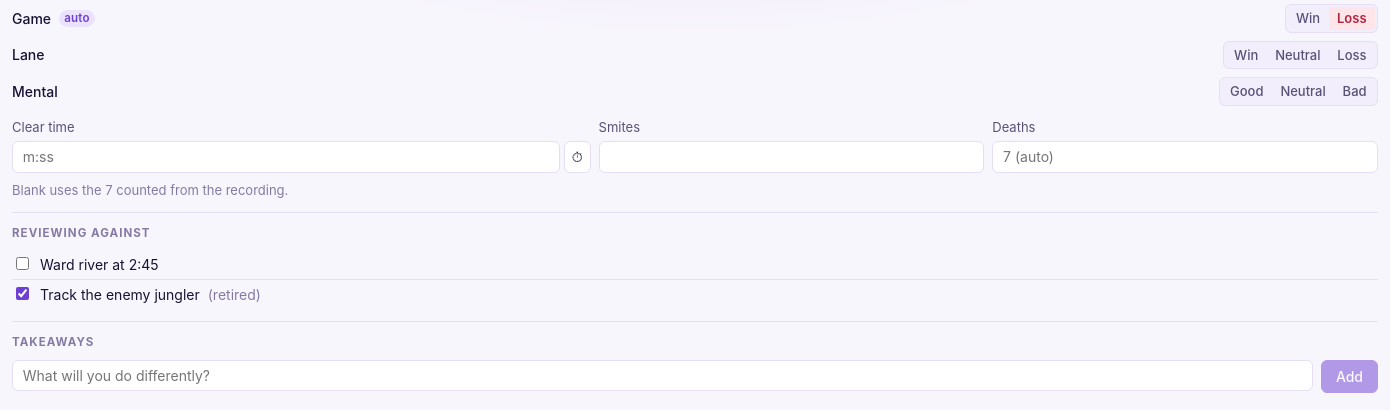
the number fields › fills the clear time from the game clock at the playhead
The width and height of the screenshot is (1390, 410).
Click the button with class "clock-btn" at (577, 157), box top-left (564, 141), bottom-right (590, 173)
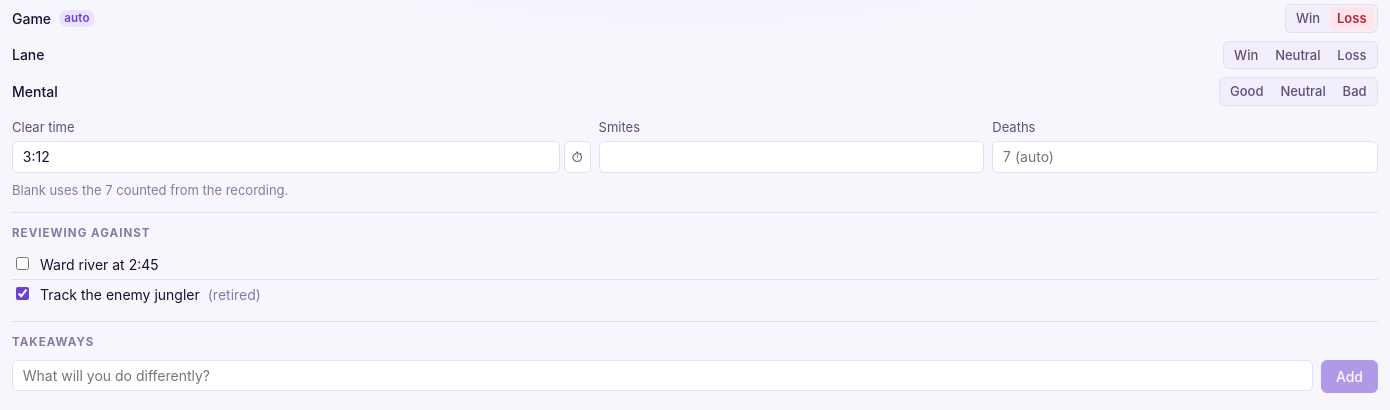
Expected: the field with id "review-clear" holds "3:12", top-left (12, 141), bottom-right (560, 173)
